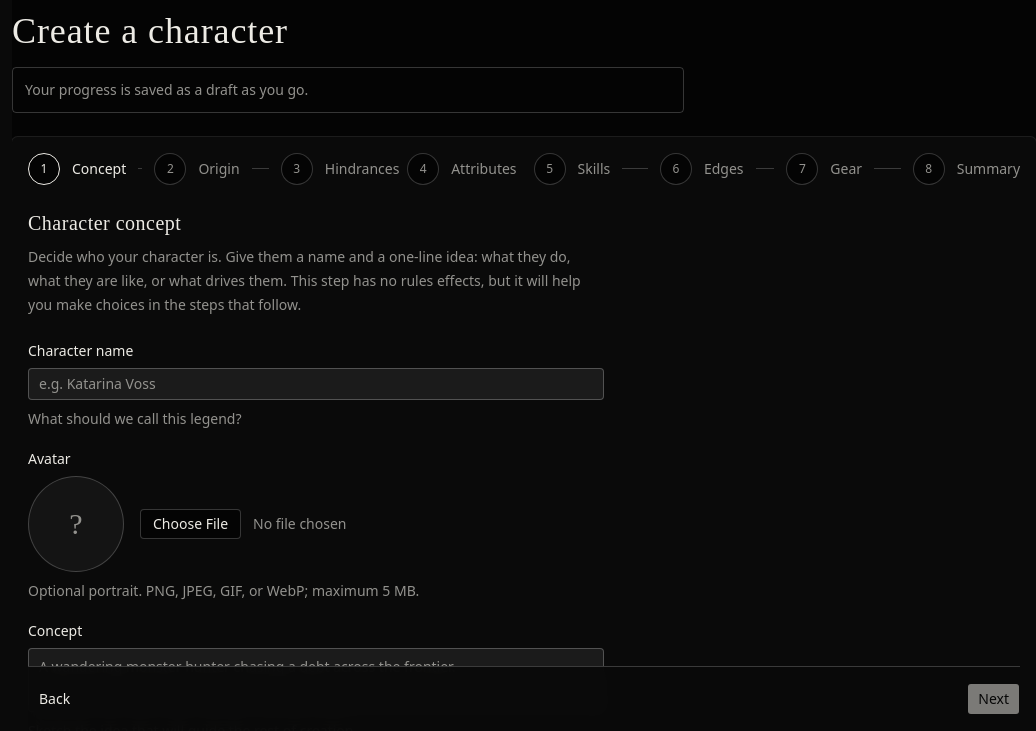
Scenario: NewCharacterRoute › blocks advancing until an origin is selected
The width and height of the screenshot is (1036, 731).
Type "Katarina Voss" into the field labelled "Character name" at point(316, 384), box [28,368,604,400]
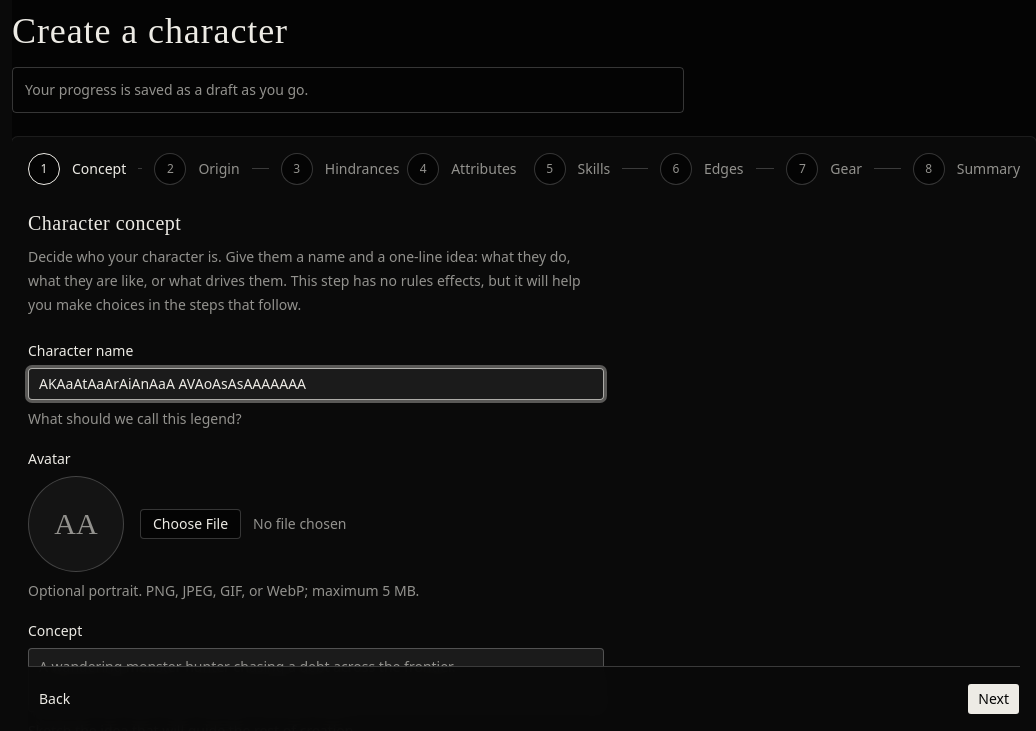
Click the button "Next" at point(994, 699), box [967,683,1020,715]
(page scrolled)
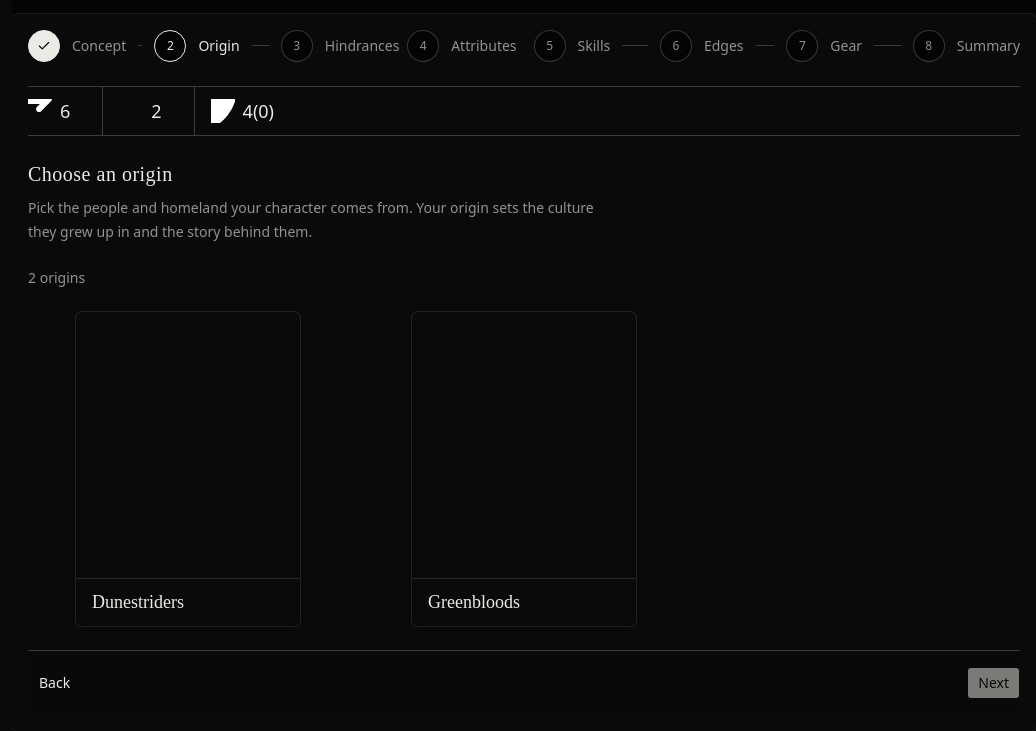
Result: the button "Next" is disabled at [967,667,1020,699]
Result: the heading "Choose an origin" is shown at [28,163,173,185]
Click the button named "Dunestriders" at point(188, 469), box [76,312,300,626]
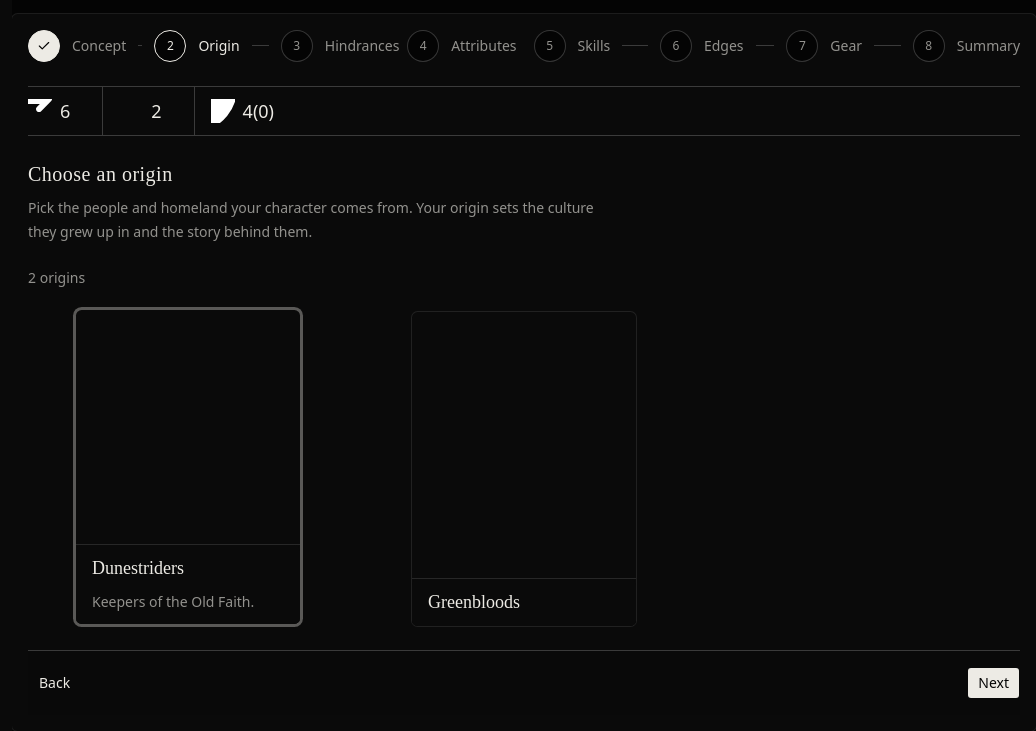
Result: the button "Next" is enabled
Click the button "Next" at point(994, 683), box [967,667,1020,699]
(page scrolled)
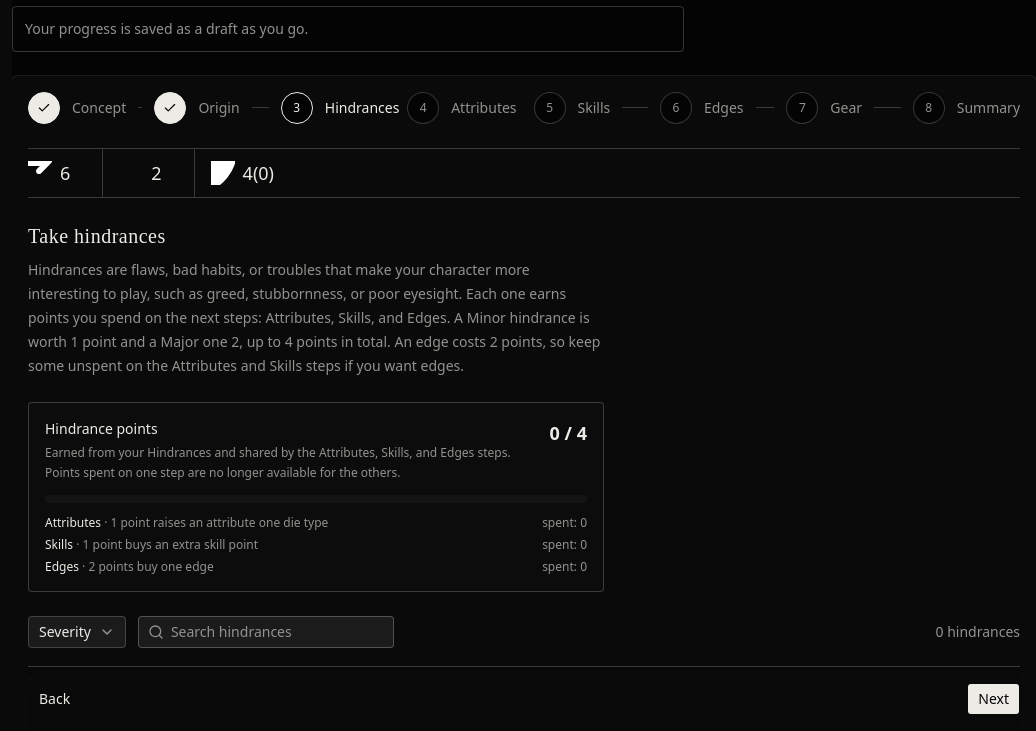
Result: the heading "Take hindrances" is shown at [28,225,166,247]
